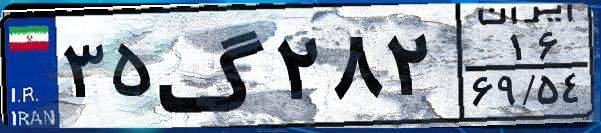1: (508, 27, 537, 80)
2: (270, 28, 330, 110), (385, 28, 445, 110)
3: (57, 26, 110, 100)
4: (560, 70, 590, 125)
5: (110, 28, 156, 98), (535, 70, 560, 125)
6: (537, 27, 568, 80), (470, 70, 495, 125)
8: (330, 28, 385, 110)
9: (495, 70, 520, 125)
گ: (156, 12, 270, 120)
